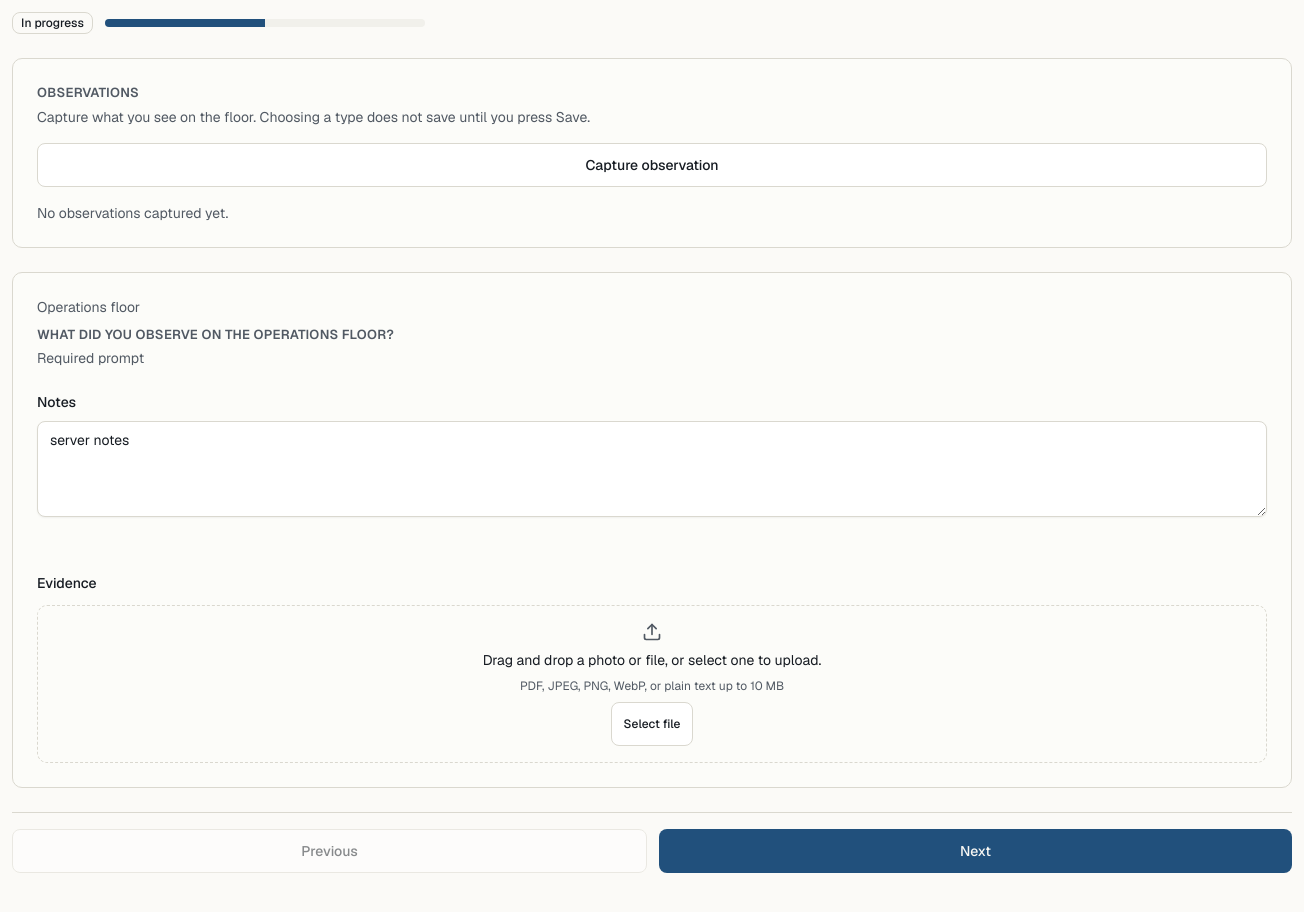
Test: GembaWalkWorkspace answer state › updates the visible Notes field immediately while typing
Replace the text in the text box labelled "Notes" with "typed locally" at (652, 469), box [37, 421, 1267, 517]
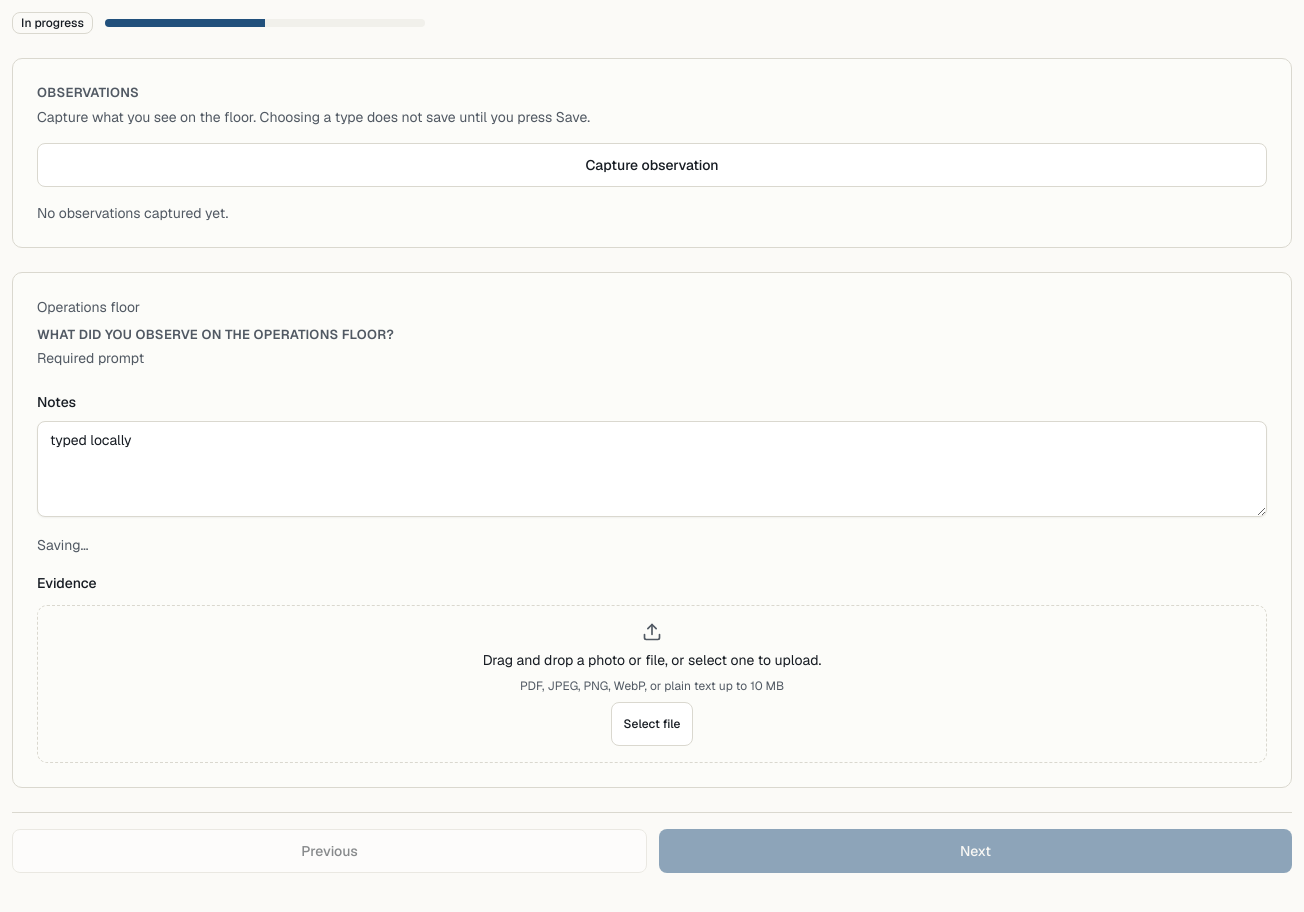
Expected: the element with test id "answer-save-status" reads "Saving…", [37, 536, 89, 554]
